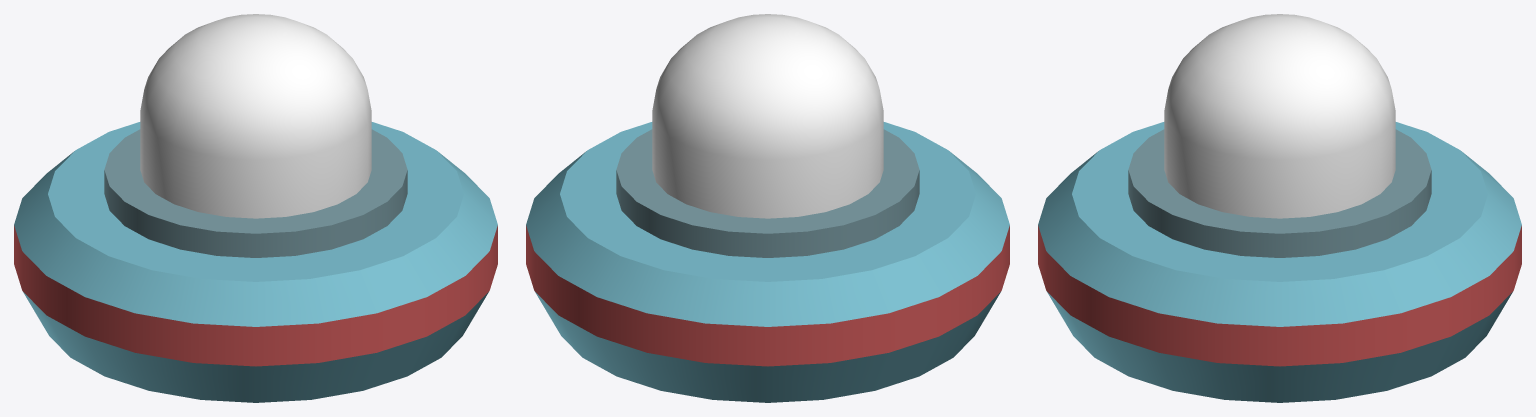
Rendered from enemy_ufoRed.dae.
3 renders of one model, left to right at view 1: azimuth 30°, elevation 25°; view 2: azimuth 150°, elevation 25°; view 3: azimuth 270°, elevation 25°, orthographic.
Visible parts, largest first — view 1: enemy_ufoRed; view 2: enemy_ufoRed; view 3: enemy_ufoRed.
Boxes of the visible parts, x1,y1,x2,y2 form: enemy_ufoRed: (14, 14, 497, 402); enemy_ufoRed: (526, 14, 1009, 402); enemy_ufoRed: (1038, 14, 1521, 402).
Size of the model in its own units: 1 by 0.6505 by 1.
